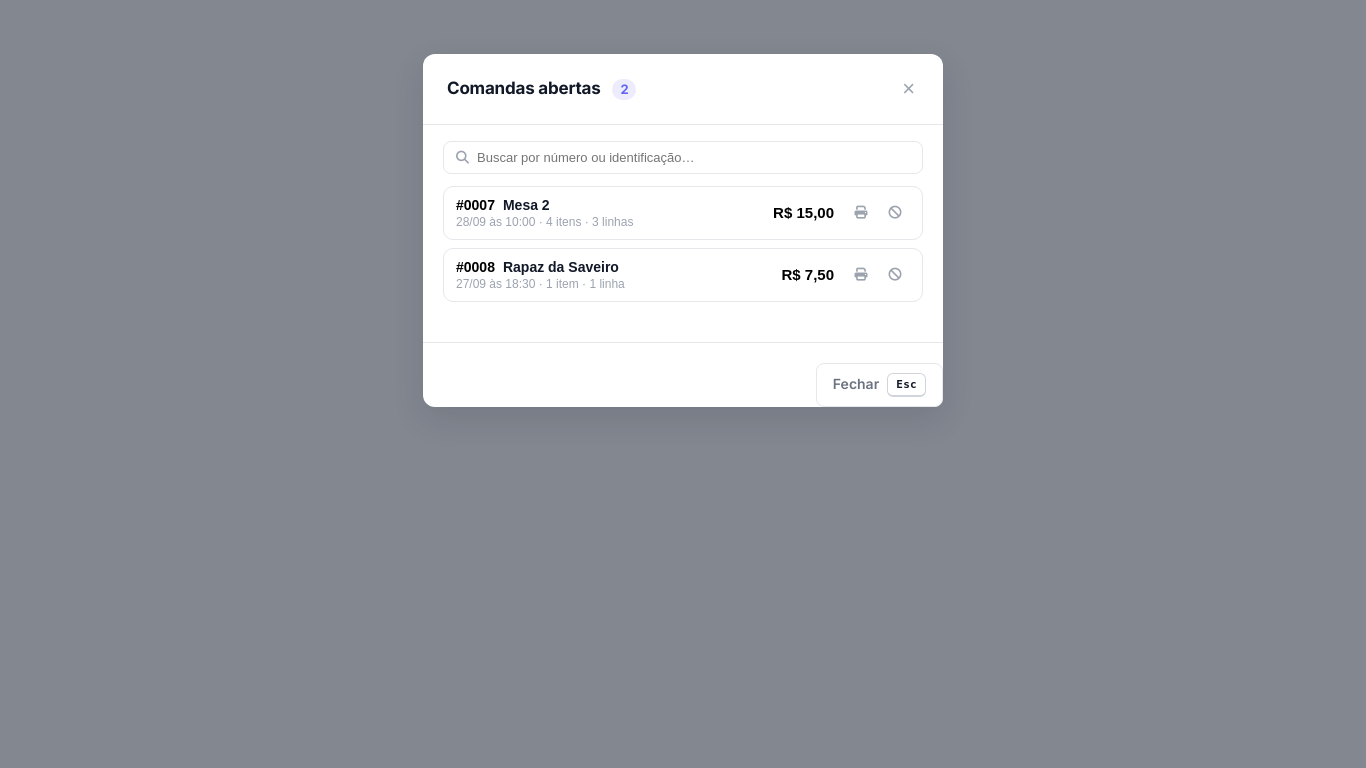
Test: TabListModal › filtra por número ou identificação ignorando acento/caixa
The width and height of the screenshot is (1366, 768).
Type "saveiro" into the field with placeholder "Buscar por número ou identificação…" at (694, 157), box [477,150,910,165]
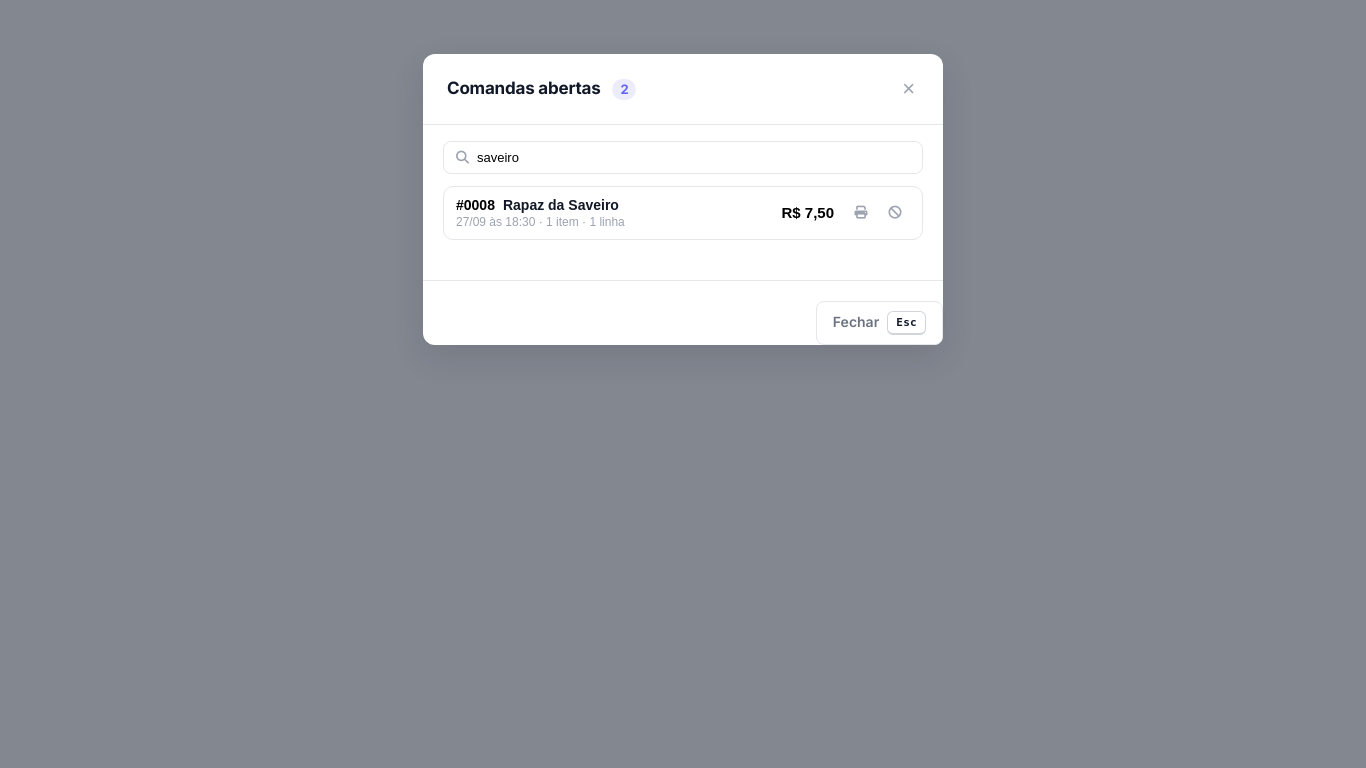
Check: the button with class "tab-card" shows "Rapaz da Saveiro", box [443,186,923,240]
Check: the number of buttons with class "tab-card" is 1, box [443,186,923,240]
Replace the text in the field with "#0007" at (694, 157), box [477,150,910,165]
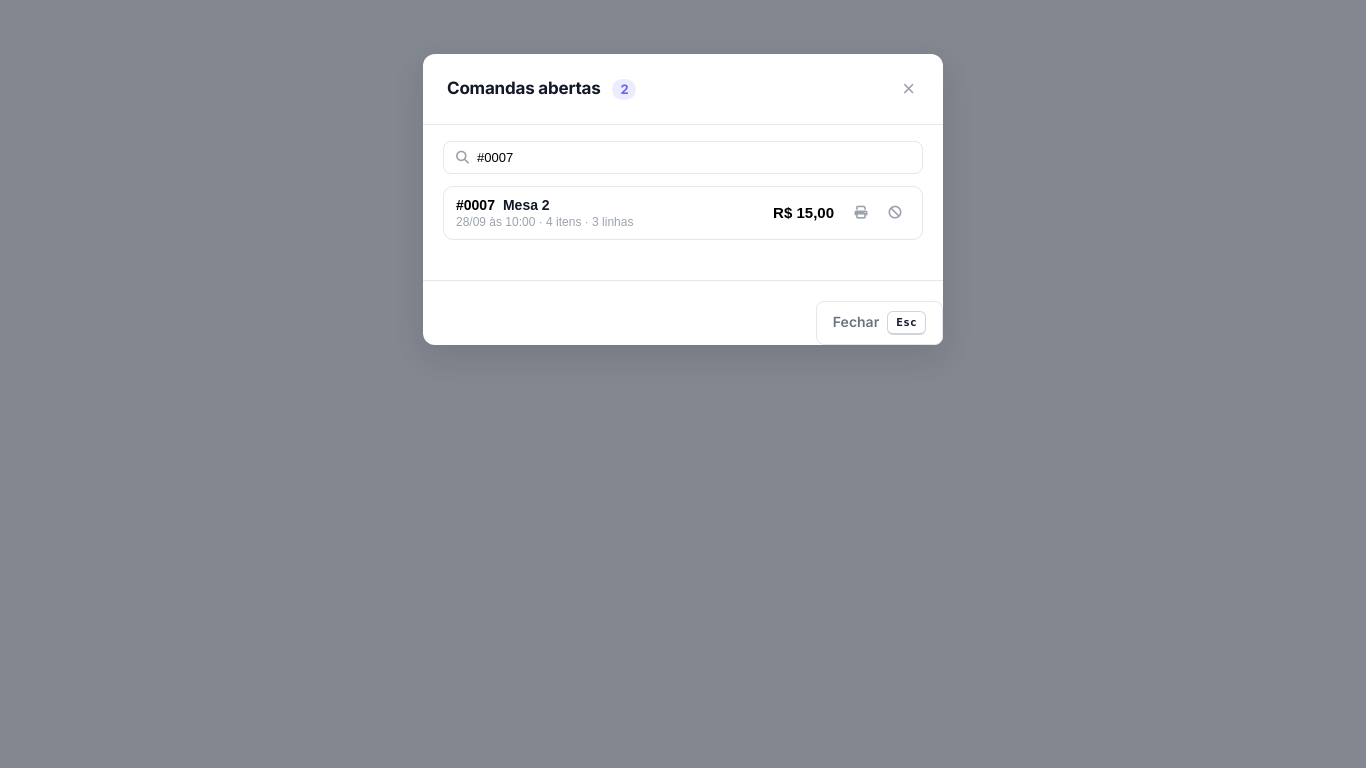
Check: the number of buttons with class "tab-card" is 1, box [443,186,923,240]
Check: the button with class "tab-card" shows "Mesa 2", box [443,186,923,240]
Replace the text in the field with "999" at (694, 157), box [477,150,910,165]
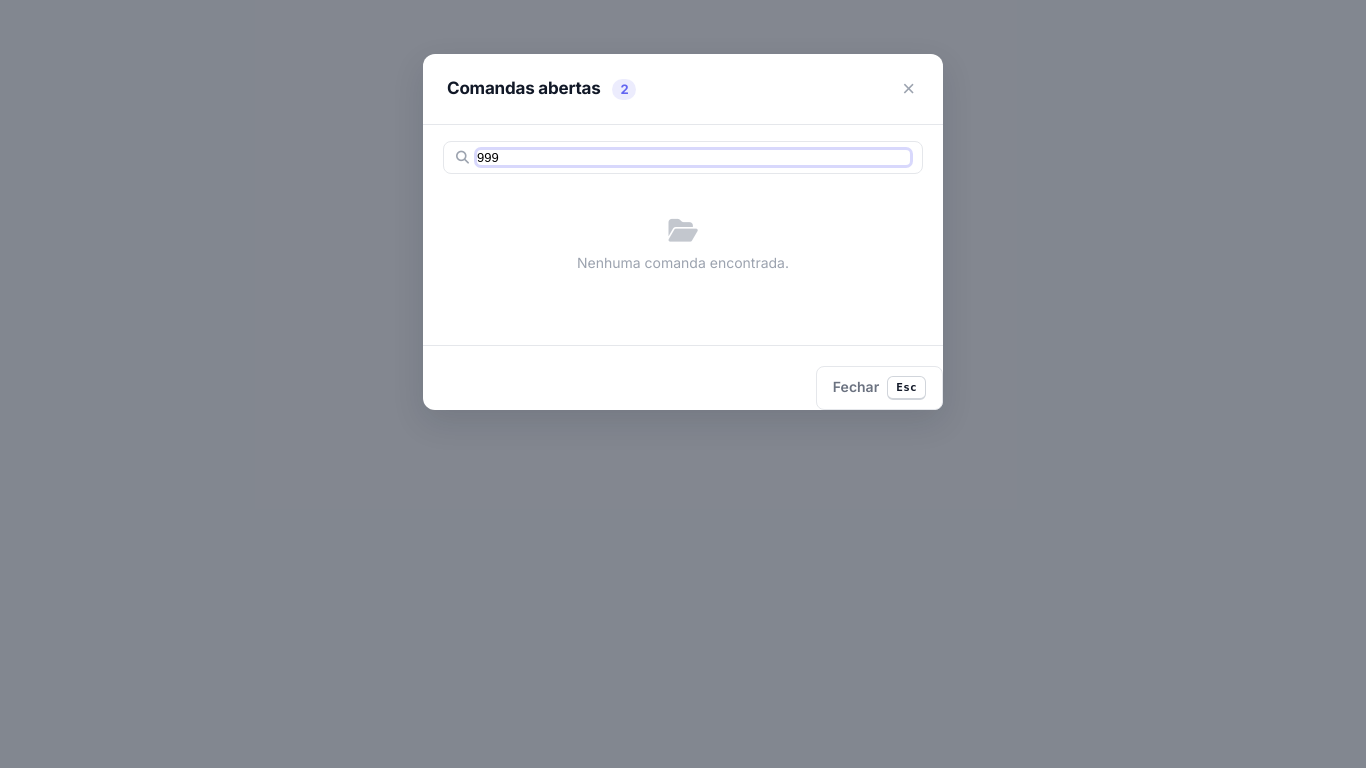
Check: no buttons with class "tab-card" are shown
Check: the element with class "tab-list-empty" shows "Nenhuma comanda encontrada", box [577,254,789,271]
